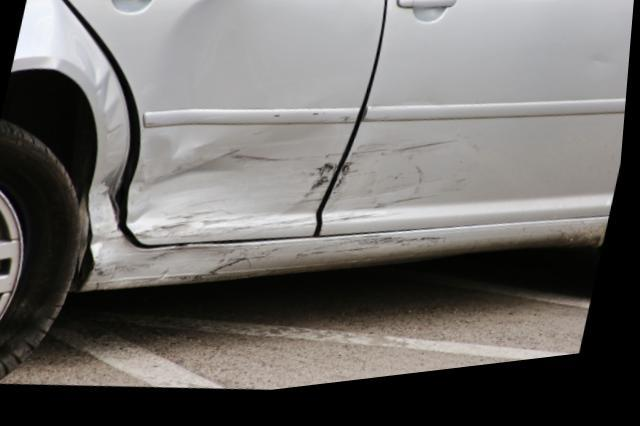dent: (128, 0, 354, 246), (59, 21, 130, 252)
dislocated part: (53, 0, 149, 237)
scratch: (89, 249, 462, 289), (329, 148, 484, 232)
